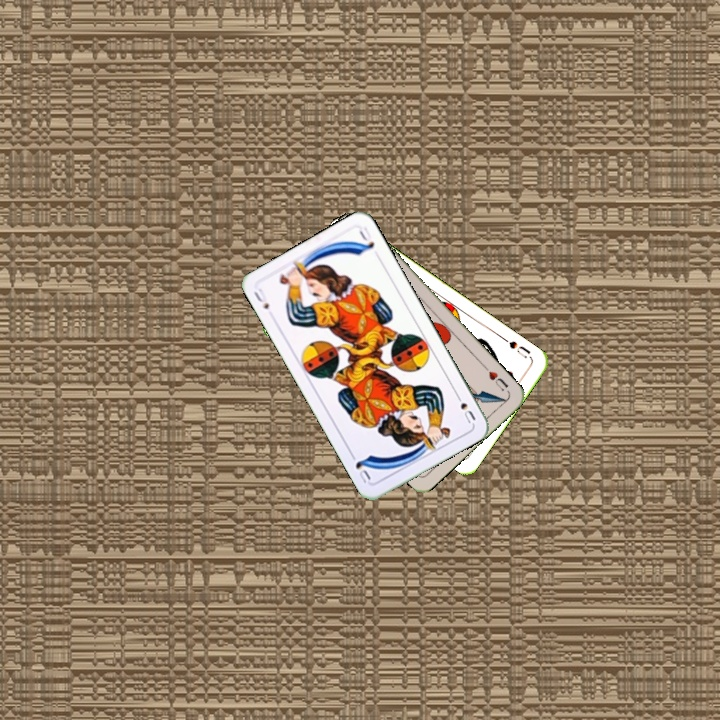HU: (485, 367, 511, 394)
SU: (451, 389, 478, 426), (499, 334, 533, 361), (250, 284, 272, 312)
